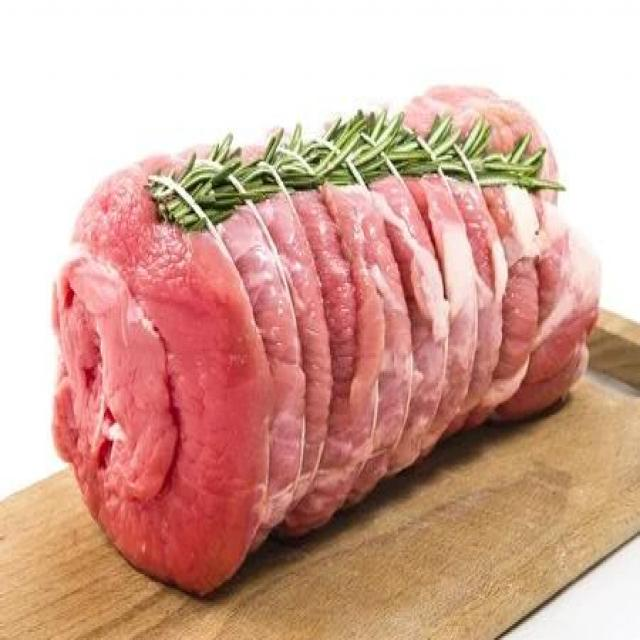pork: (50, 79, 601, 596)
